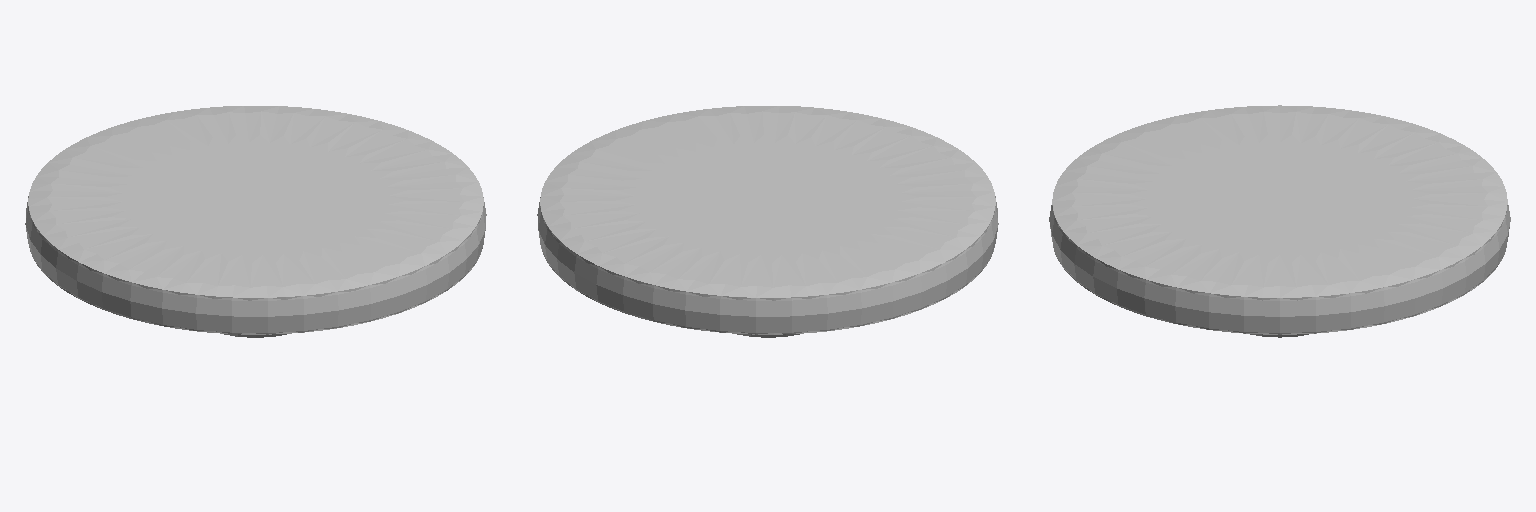
The model's file is CloudTankMetals.obj.
3 views of the same model, side by side, from view 1: azimuth 30°, elevation 25°; view 2: azimuth 150°, elevation 25°; view 3: azimuth 270°, elevation 25° (orthographic).
Visible parts, largest first — view 1: HoopTank1 HoopTankLower2 CloudSpewer1 CloudMaker1 IslandCloudFac; view 2: HoopTank1 HoopTankLower2 CloudSpewer1 CloudMaker1 IslandCloudFac; view 3: HoopTank1 HoopTankLower2 CloudSpewer1 CloudMaker1 IslandCloudFac.
Boxes of the visible parts, <box> form: HoopTank1 HoopTankLower2 CloudSpewer1 CloudMaker1 IslandCloudFac: <box>25,106,486,334</box>; HoopTank1 HoopTankLower2 CloudSpewer1 CloudMaker1 IslandCloudFac: <box>537,106,998,334</box>; HoopTank1 HoopTankLower2 CloudSpewer1 CloudMaker1 IslandCloudFac: <box>1049,105,1510,334</box>.
Bounding box in the file's own units: 35.19 × 9.6 × 35.19.